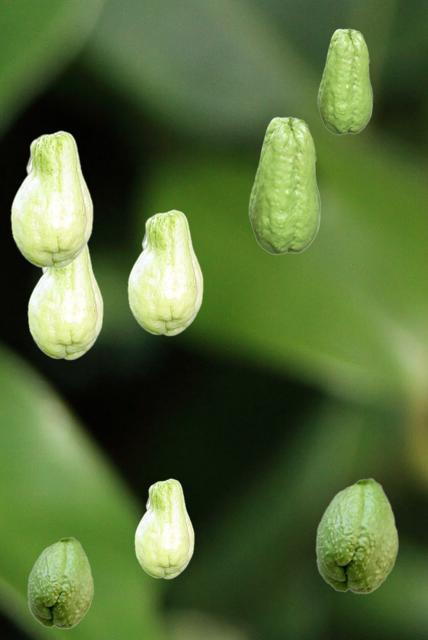sayote: (10, 130, 92, 268), (248, 116, 320, 254), (315, 477, 398, 593), (127, 209, 202, 335), (27, 244, 102, 359), (27, 536, 93, 628), (134, 478, 193, 578), (317, 28, 372, 134)
